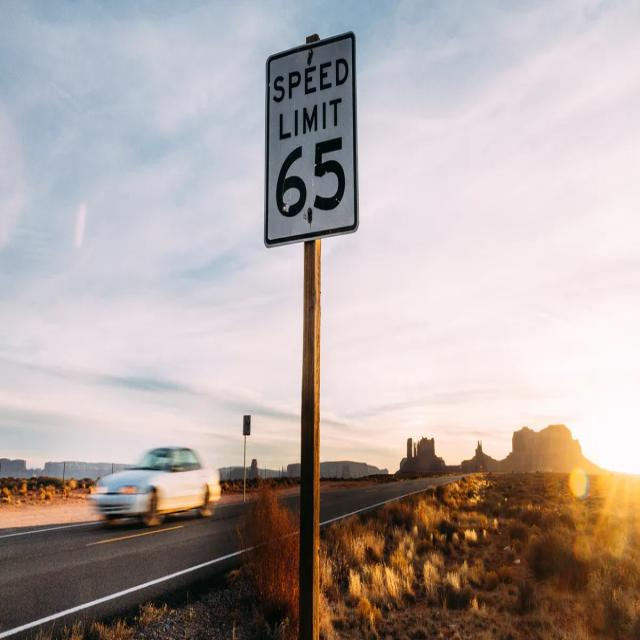Speed Limit Signs: (262, 28, 361, 250)
